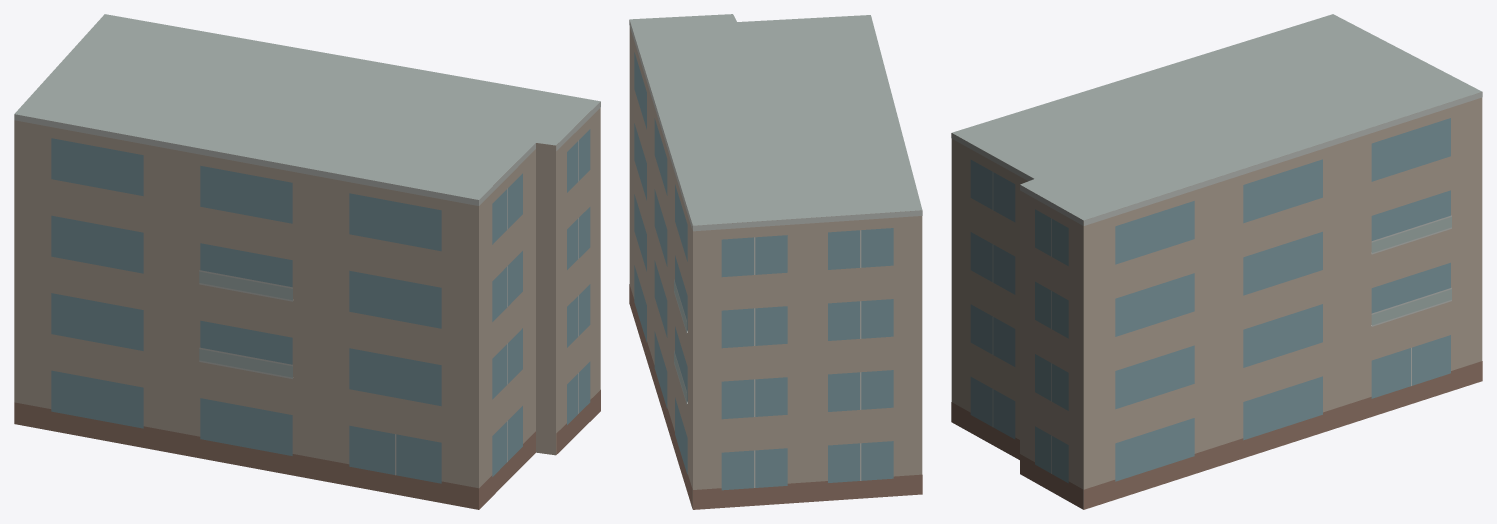
File: survey-upis-32964706.glb
3 views of the same model, side by side, from view 1: azimuth 30°, elevation 25°; view 2: azimuth 150°, elevation 25°; view 3: azimuth 270°, elevation 25° (orthographic). The views are drawn at different scales.
Parts seen in each view (by area): view 1: survey-upis-32964706.tmp; view 2: survey-upis-32964706.tmp; view 3: survey-upis-32964706.tmp.
Part boxes in pixels (x1,y1,x2,y2): survey-upis-32964706.tmp: (14, 14, 600, 509); survey-upis-32964706.tmp: (629, 14, 922, 509); survey-upis-32964706.tmp: (951, 14, 1482, 509).
Size of the model in its own units: 18.98 by 12.4 by 20.62.
